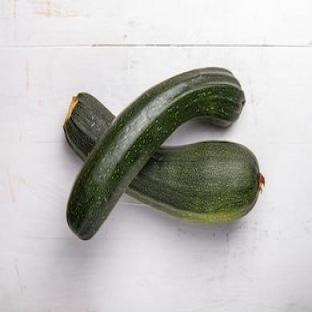Zucchini: (68, 69, 244, 238), (126, 142, 263, 223)
